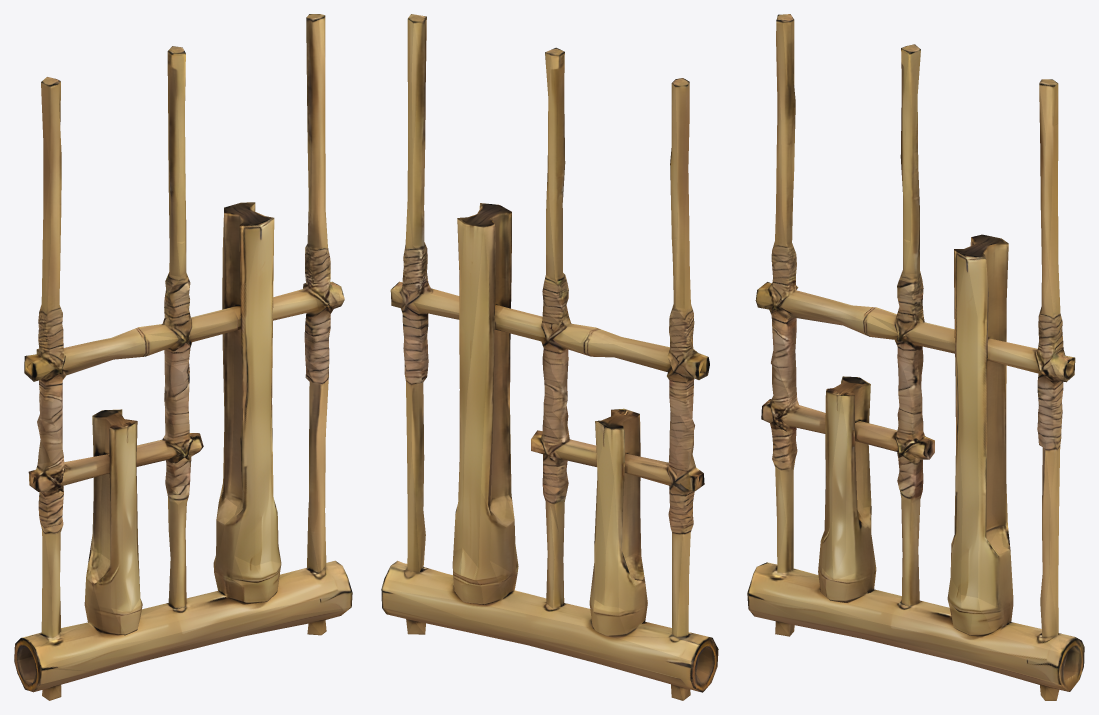
File: angklung.glb
The picture shows the model from 3 angles, left to right: view 1: azimuth 30°, elevation 25°; view 2: azimuth 150°, elevation 25°; view 3: azimuth 330°, elevation 25°; orthographic projection.
Parts seen in each view (by area): view 1: model; view 2: model; view 3: model.
Part boxes in pixels (x1=…): model: x1=14, y1=14, x2=352, y2=700; model: x1=381, y1=14, x2=718, y2=700; model: x1=747, y1=14, x2=1084, y2=700.
Size of the model in its own units: 0.9234 by 1.74 by 0.1732.
Materials: 1 (1 with a texture image).
